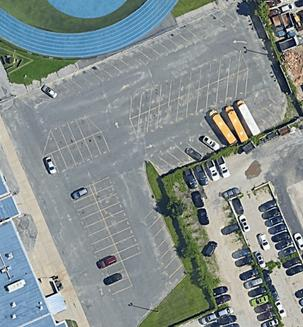parkingspot: (36, 8, 241, 104), (137, 67, 249, 140), (129, 49, 242, 120), (68, 184, 134, 297), (230, 197, 288, 320), (219, 222, 281, 327), (256, 198, 303, 319), (88, 176, 143, 262), (142, 204, 188, 290), (41, 130, 111, 179), (146, 134, 226, 176), (181, 155, 232, 192), (50, 114, 94, 151), (257, 86, 288, 129), (211, 285, 241, 327), (196, 312, 220, 327)
